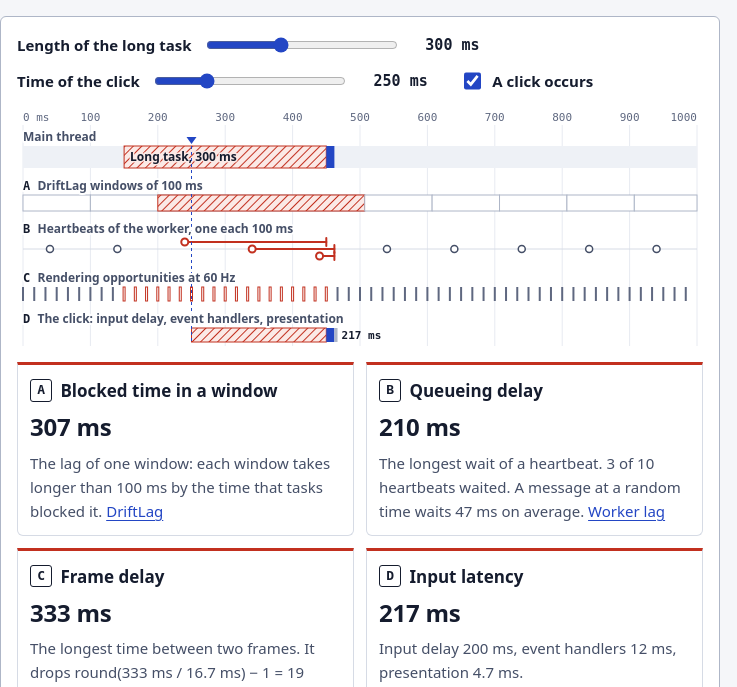
Scenario: FourLags › moves the click to the place that the reader drags
Press the mouse on the picture named "A time axis of 1000 ms. A long task blocks the main thread f" at (360, 228), box [17, 109, 703, 346]
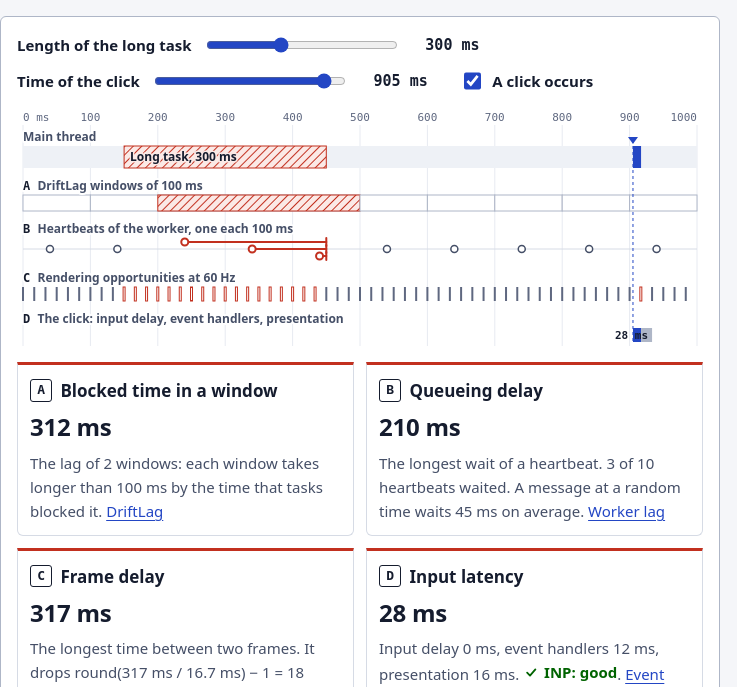
Result: the text "250 ms" is gone
